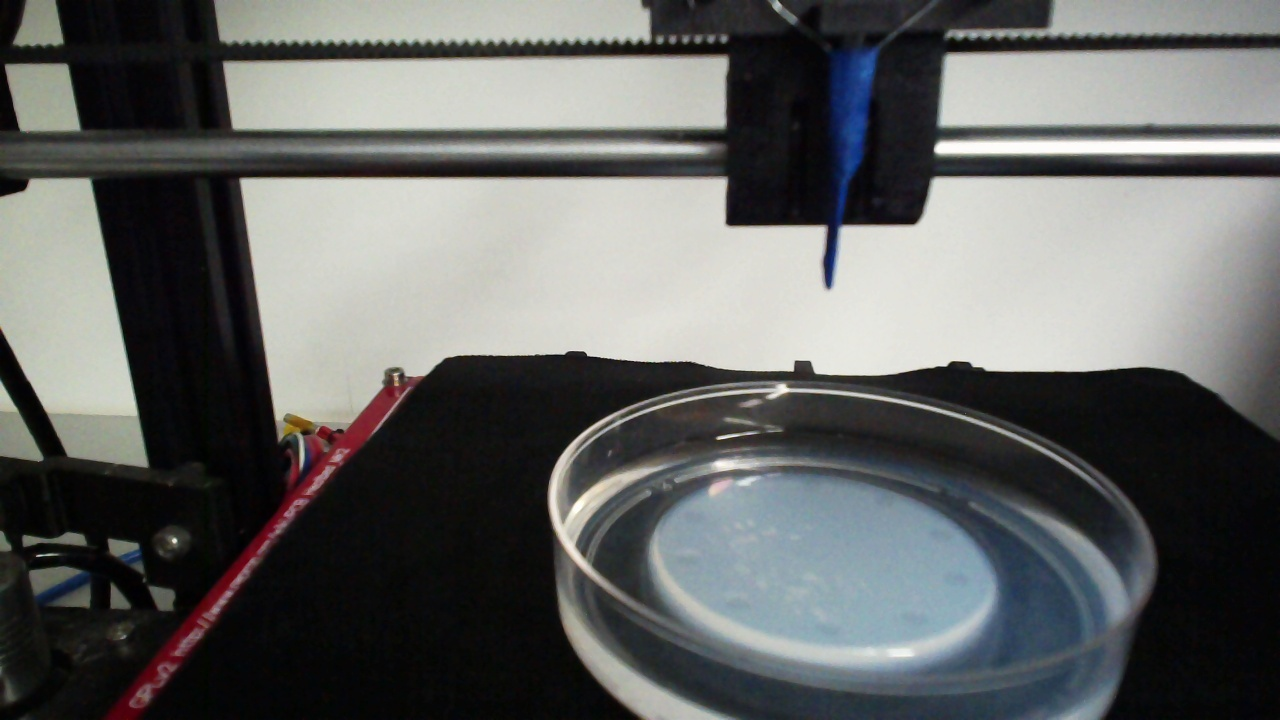groove: (671, 549, 704, 569), (899, 608, 930, 628), (723, 594, 753, 614), (678, 507, 708, 526), (927, 524, 954, 545), (814, 616, 841, 637), (943, 567, 969, 587), (871, 490, 898, 509)
needle: (824, 56, 875, 285)
